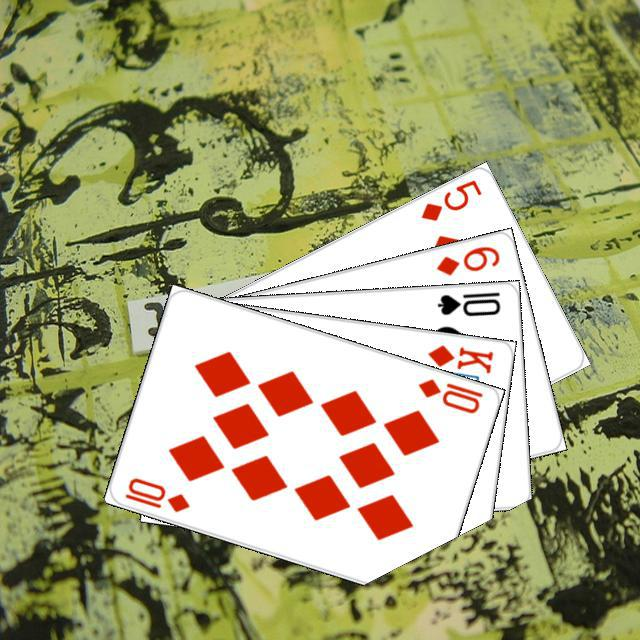10d: (413, 373, 485, 416), (119, 472, 191, 515)
10s: (433, 287, 502, 318)
5d: (416, 175, 484, 223)
6d: (431, 241, 502, 278)
Kd: (423, 340, 495, 376)
